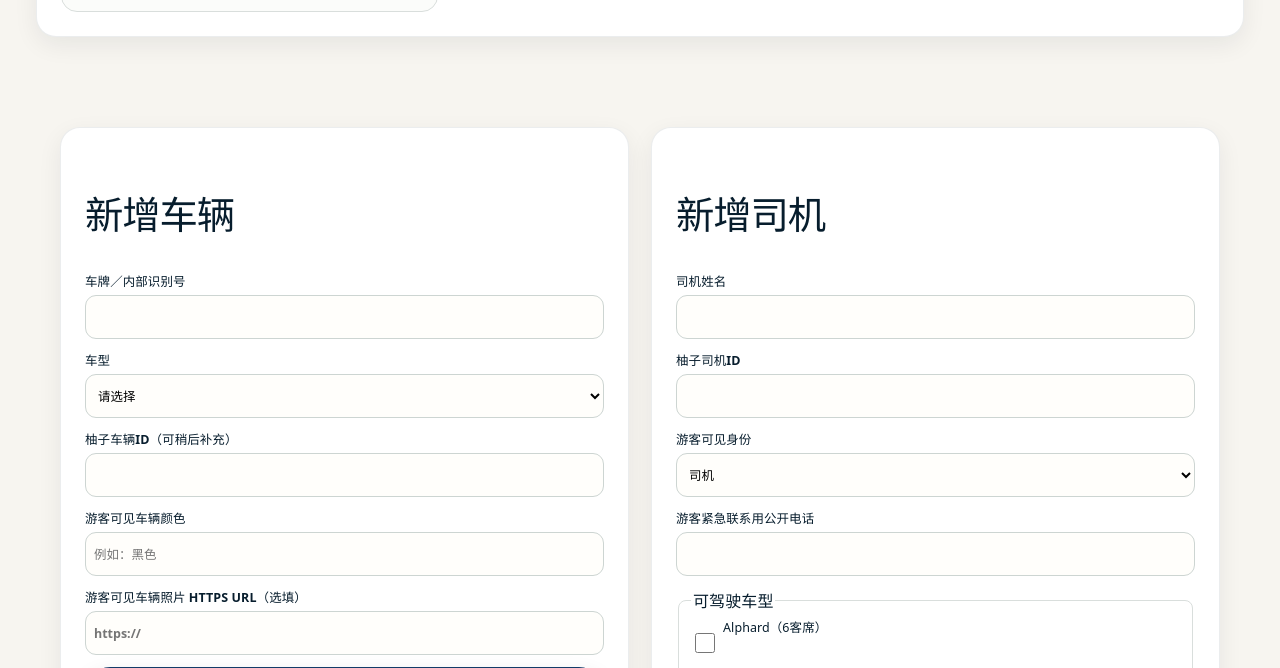
Test: 运营派单界面 › 异步保存车辆后安全重置表单并刷新快照
The image size is (1280, 668).
(page scrolled)
In the field labelled "车牌／内部识别号": (344, 317) [85,295,604,339], type "TEST-ASYNC"
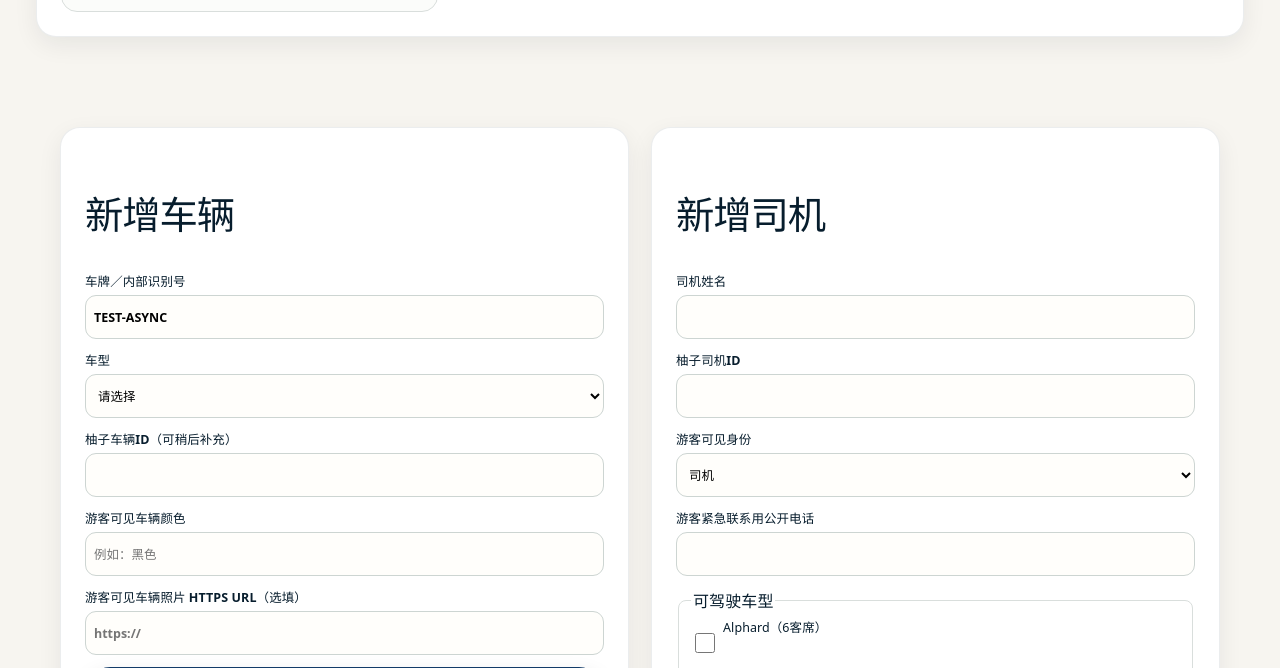
Select "Alphard（6客席）" in the dropdown labelled "车型": (344, 396) [85,374,604,418]
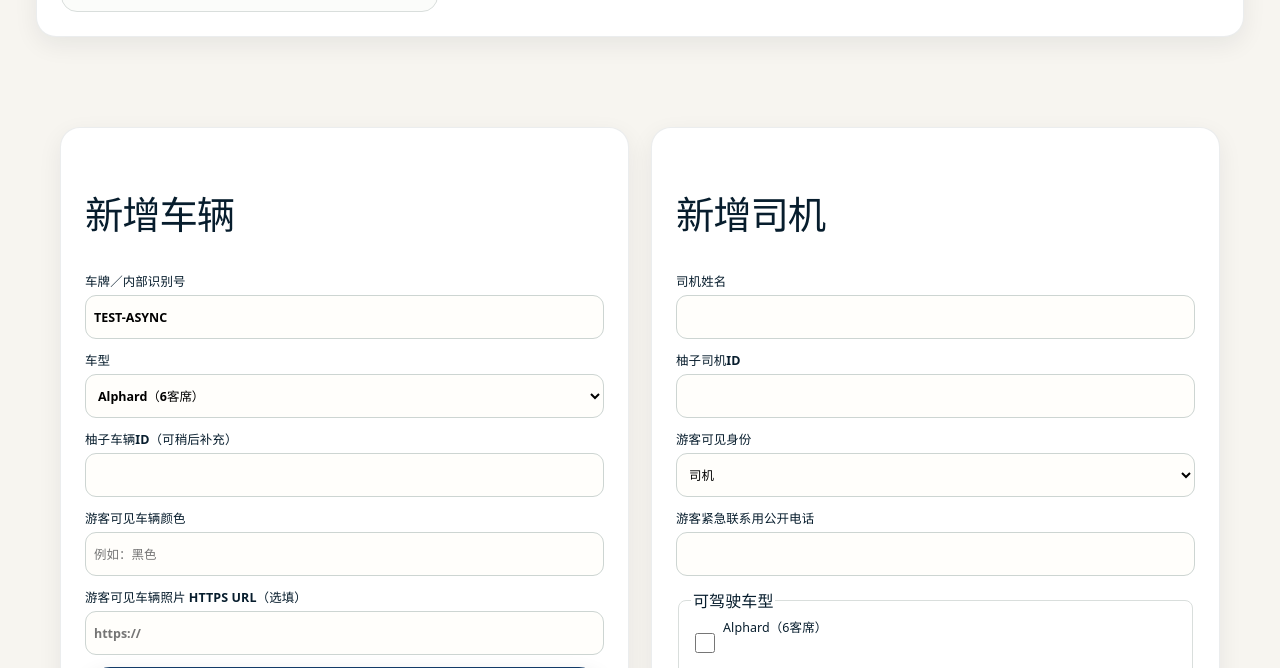
In the field labelled "游客可见车辆颜色": (344, 554) [85,532,604,576], type "黑色"
(page scrolled)
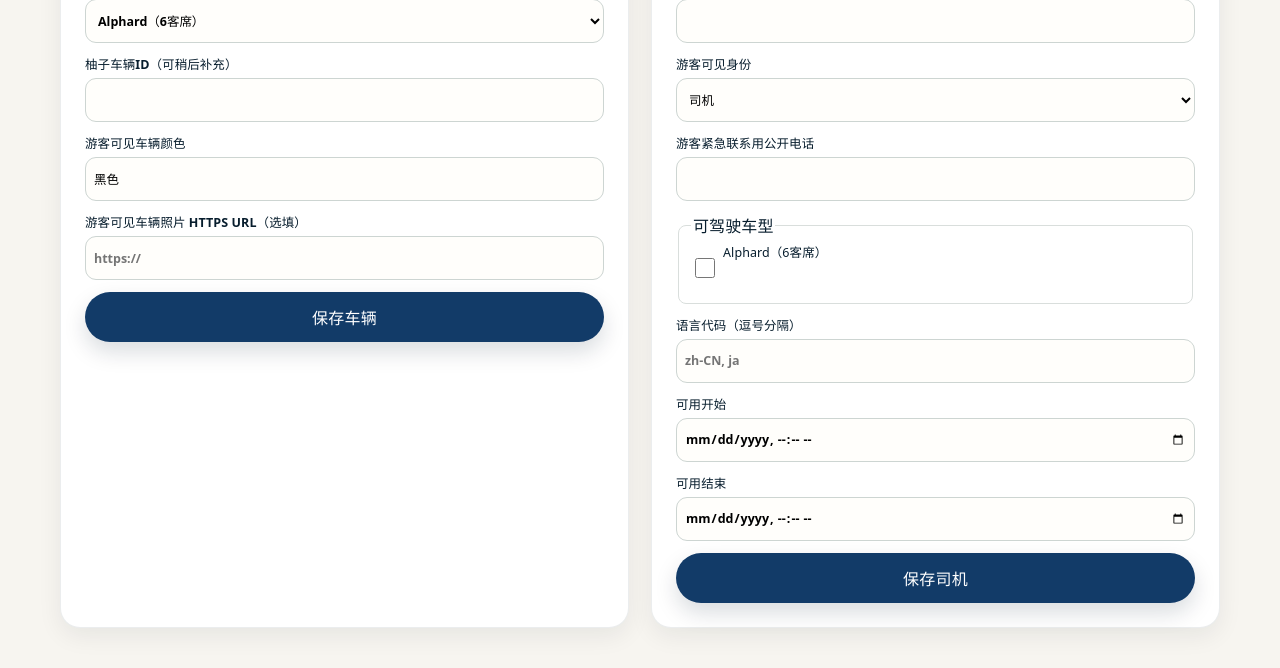
Click the button "保存车辆": (344, 317) [85,292,604,342]
(page scrolled)
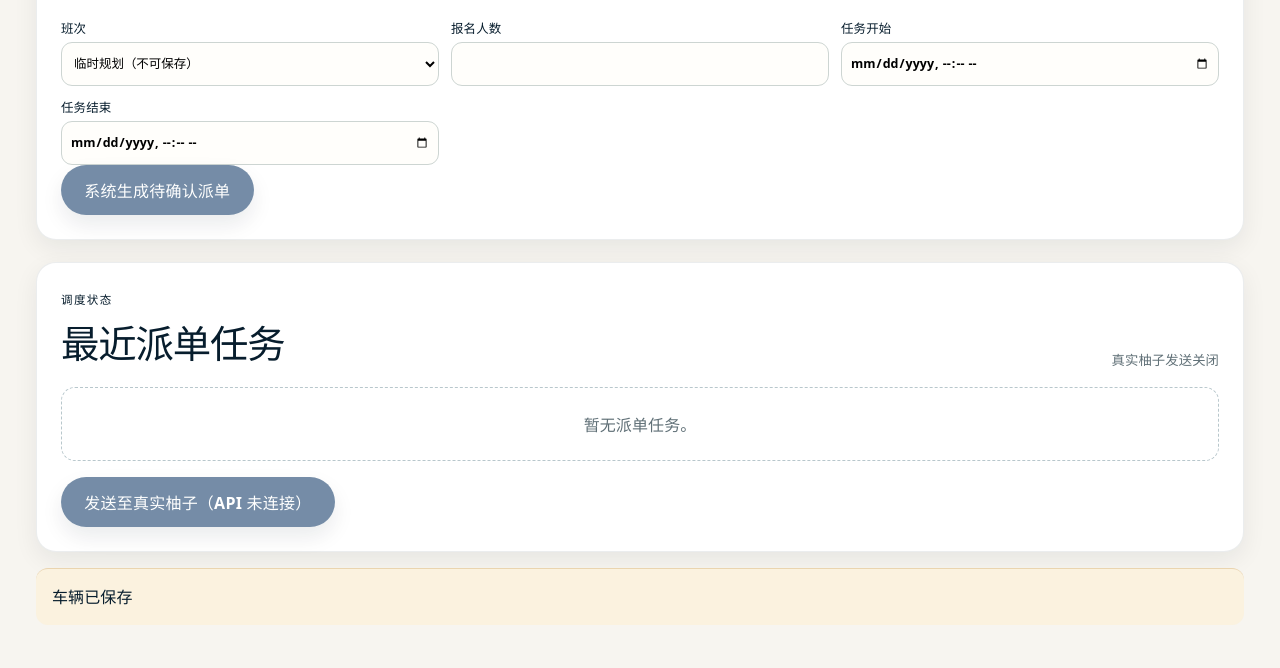
Expected: the text "车辆已保存" is shown, [36,568,1244,625]
